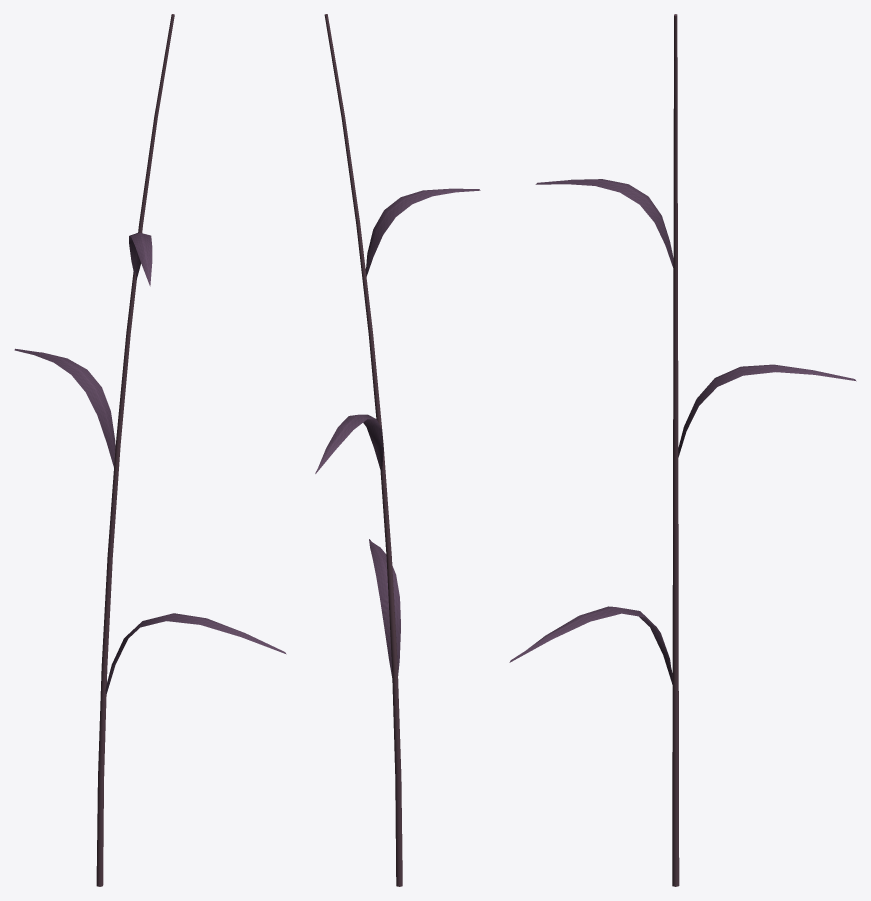
File: single_stem_10.glb
3 renders of one model, left to right at view 1: azimuth 30°, elevation 25°; view 2: azimuth 150°, elevation 25°; view 3: azimuth 270°, elevation 25°, orthographic. The views are drawn at different scales.
Visible parts, largest first — view 1: export; view 2: export; view 3: export.
Part boxes in pixels (box(x1,y1,x2,y2)): export: box(14, 14, 286, 886); export: box(315, 14, 480, 886); export: box(509, 14, 856, 886).
Size of the model in its own units: 0.1523 by 1 by 0.3469.
2 materials, 2 textured.
